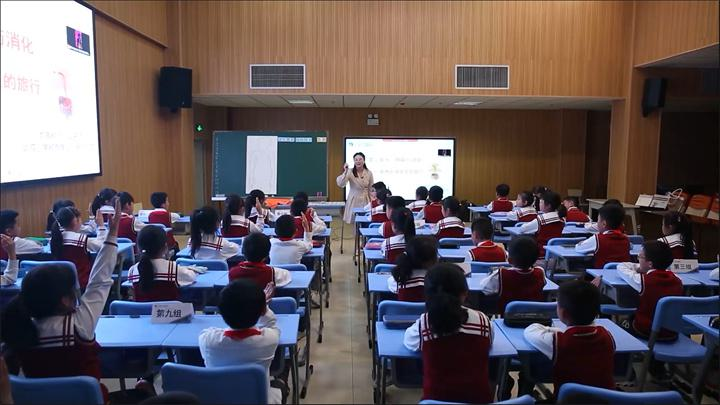bow: (458, 215, 501, 255)
hands-up: (25, 205, 124, 346), (201, 280, 279, 369), (269, 211, 317, 268), (217, 186, 260, 240)
listen: (408, 260, 498, 351), (127, 224, 189, 294), (632, 241, 686, 298), (582, 195, 625, 256), (521, 190, 567, 234), (146, 189, 181, 221), (489, 182, 516, 208)
